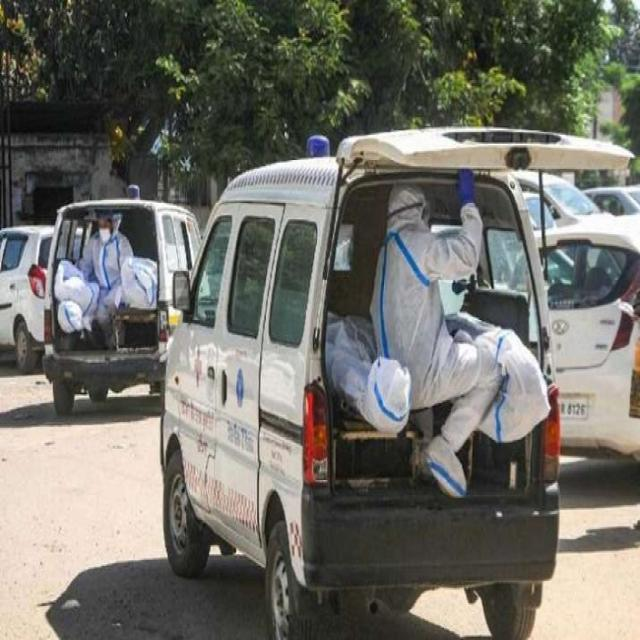car: (548, 214, 640, 458), (0, 226, 54, 373)
emergency: (160, 132, 559, 637), (44, 199, 201, 413)
